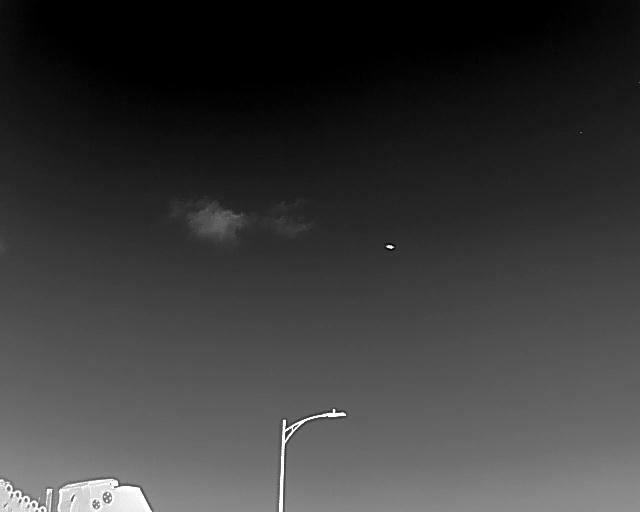fpv-drone: (385, 244, 395, 250)
